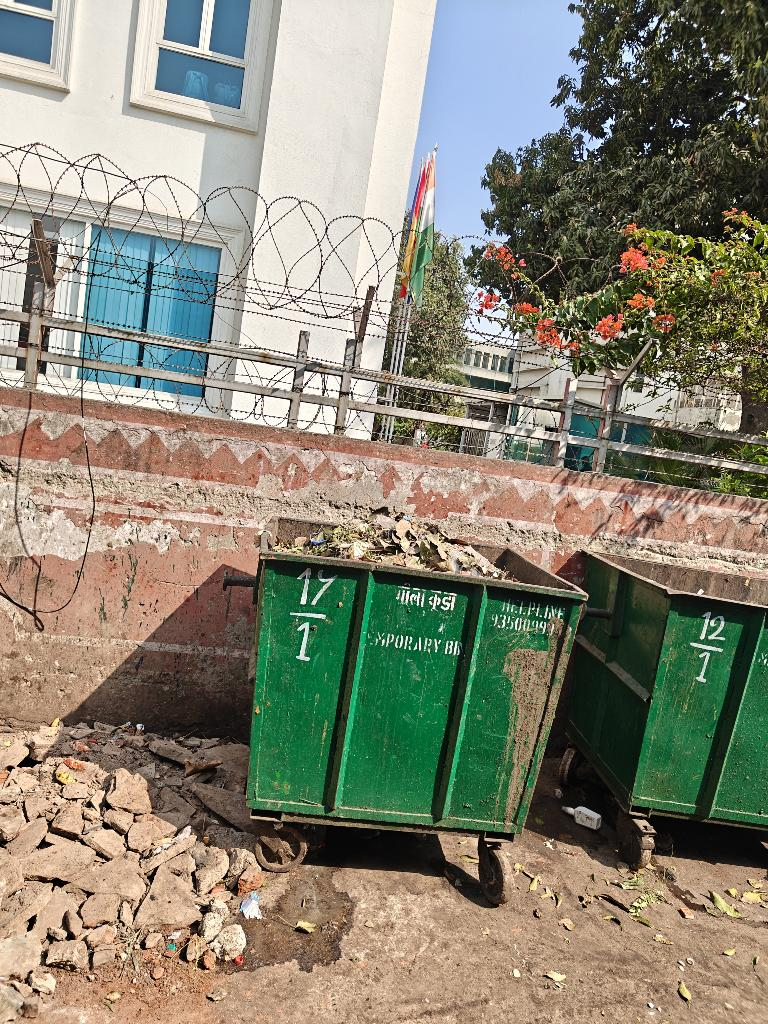dustbin: (234, 509, 590, 931), (570, 540, 768, 892)
